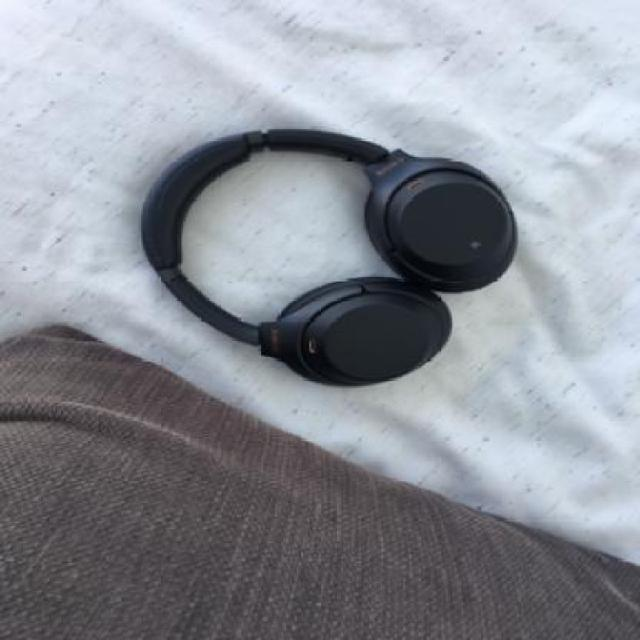earphone: (136, 52, 522, 413)
